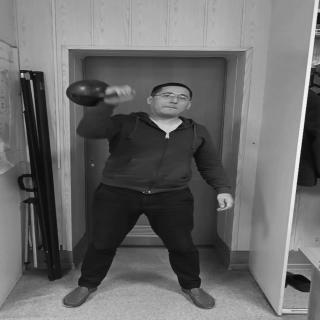kettlebell: (66, 79, 130, 108)
